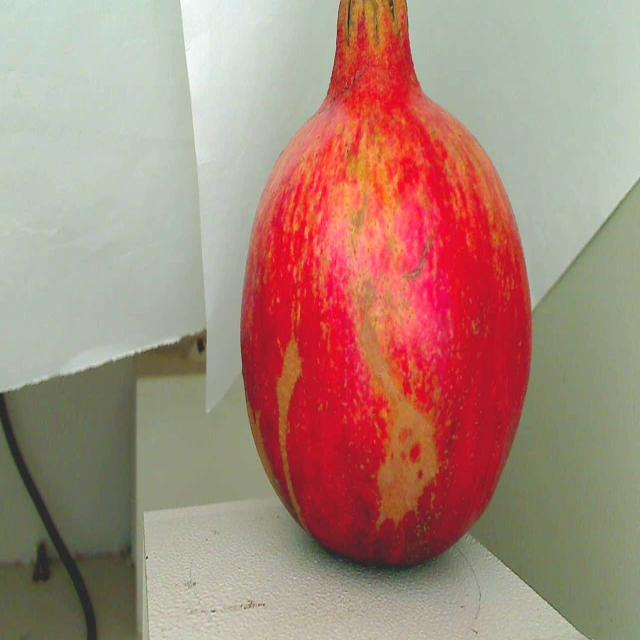pomegranate: (227, 0, 540, 572)
